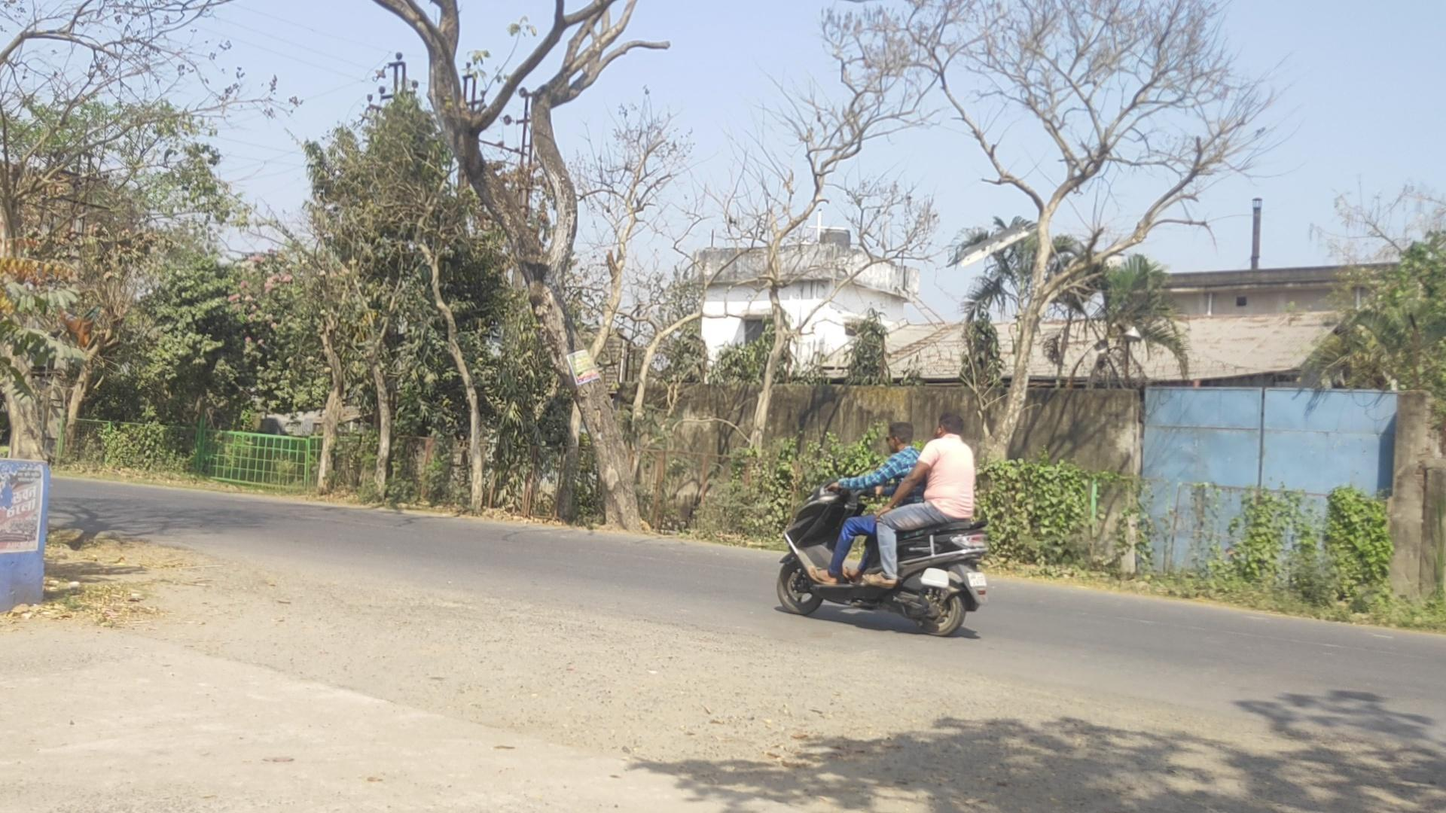bike: (776, 414, 991, 636)
